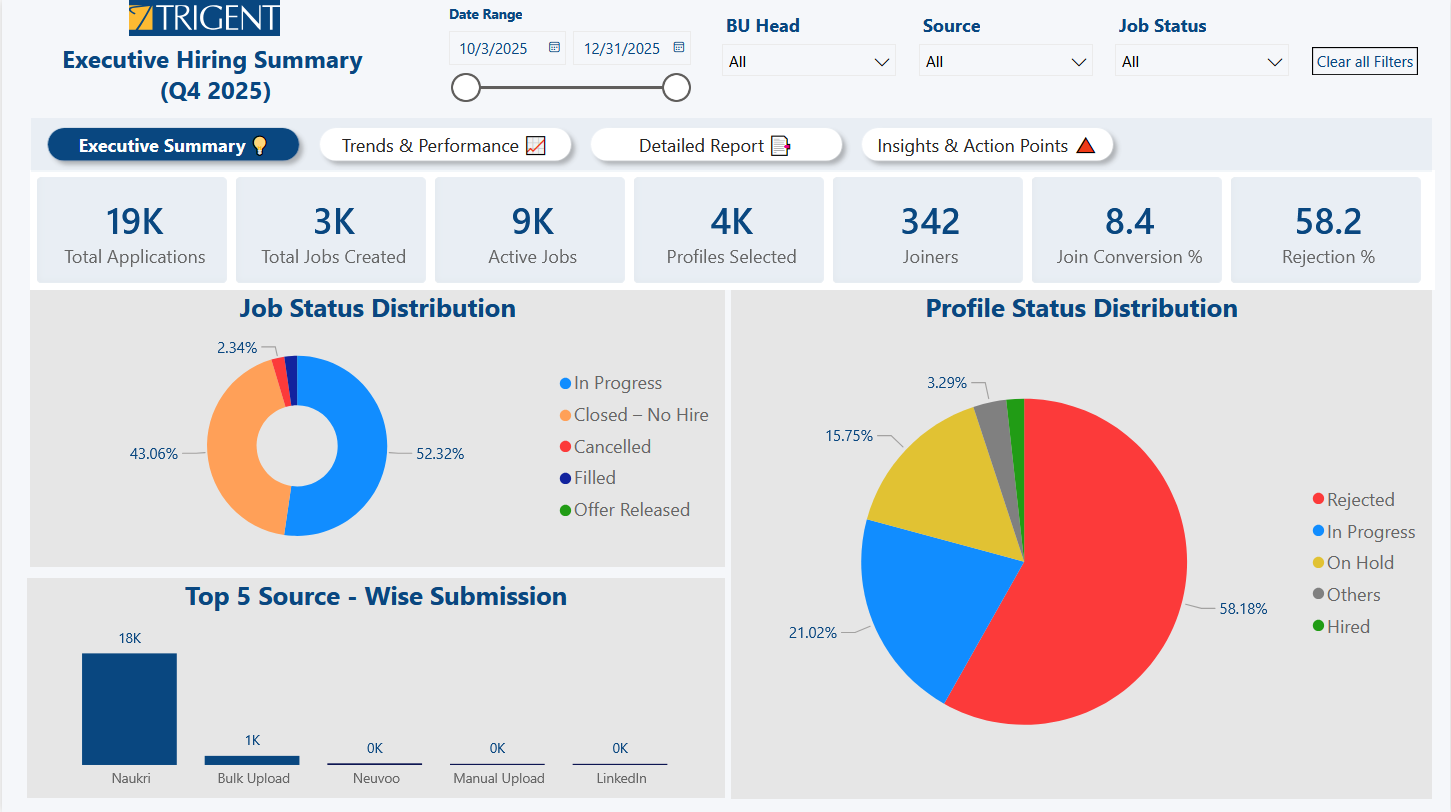

Layout of this report page (visuals, bound fields, positions):
{"tool":"powerbi","page":{"name":"Executive Summary 💡","canvas":[1280,720],"ordinal":0},"visuals":[{"type":"shape","box":[26,105,1239.3,47.9],"z":0,"group":"g1"},{"type":"cardVisual","fields":{"Data":["Clean_Data.Total Applications","Clean_Data.Total Jobs","Clean_Data.Active Jobs","Clean_Data.Profiles Selected","Clean_Data.Joiners","Clean_Data.Offer to Join %","Clean_Data.Rejection %"]},"box":[25,151.2,1242.5,106.2],"z":1000},{"type":"pieChart","title":"Profile Status Distribution","fields":{"Category":["Clean_Data.Standared Profile Status"],"Y":["CountNonNull(Clean_Data.Applicant ID)"]},"box":[645,257.5,620,450],"z":2000},{"type":"columnChart","title":"Top 5 Source - Wise Submission","fields":{"Category":["Clean_Data.Source"],"Y":["CountNonNull(Clean_Data.Applicant ID)"]},"box":[22.5,512.5,617.5,195],"z":3000},{"type":"donutChart","title":"Job Status Distribution","fields":{"Category":["Clean_Data.Job Status"],"Y":["CountNonNull(Clean_Data.Applicant ID)"]},"box":[25,257.5,615,245],"z":4000},{"type":"slicer","fields":{"Values":["Clean_Data.BU Head"]},"box":[627.1,7.1,173.9,69.8],"z":5000},{"type":"slicer","fields":{"Values":["Clean_Data.Submitted Date"]},"box":[382,0,236,101],"z":6000},{"type":"slicer","fields":{"Values":["Clean_Data.Source"]},"box":[801,7.1,173.9,69.8],"z":7000},{"type":"slicer","fields":{"Values":["Clean_Data.Job Status"]},"box":[975,7.1,173.9,69.8],"z":8000},{"type":"actionButton","box":[1158.8,42.5,93.8,25],"z":9000},{"type":"image","box":[112,0,134,33],"z":10000},{"type":"textbox","box":[23.8,32.5,330,70],"z":11000},{"type":"pageNavigator","box":[32.1,105.2,960.7,47.9],"z":12500,"group":"g1"},{"type":"group","id":"g1","title":"Group 1","box":[26,105,1239.3,48],"z":12501}]}

Visuals, with their boxes in screenshot pixels (x1, y1, x2, y2), scaled from the page's 1280x720 canvas onto the 1451x812 screenshot:
shape: 29 118 1434 172
cardVisual - Clean_Data.Total Applications x Clean_Data.Total Jobs: 28 171 1437 290
"Profile Status Distribution" pieChart: 731 290 1434 798
"Top 5 Source - Wise Submission" columnChart: 26 578 726 798
"Job Status Distribution" donutChart: 28 290 726 567
slicer - Clean_Data.BU Head: 711 8 908 87
slicer - Clean_Data.Submitted Date: 433 0 701 114
slicer - Clean_Data.Source: 908 8 1105 87
slicer - Clean_Data.Job Status: 1105 8 1302 87
actionButton: 1314 48 1420 76
image: 127 0 279 37
textbox: 27 37 401 116
pageNavigator: 36 119 1125 173
"Group 1" group: 29 118 1434 173
